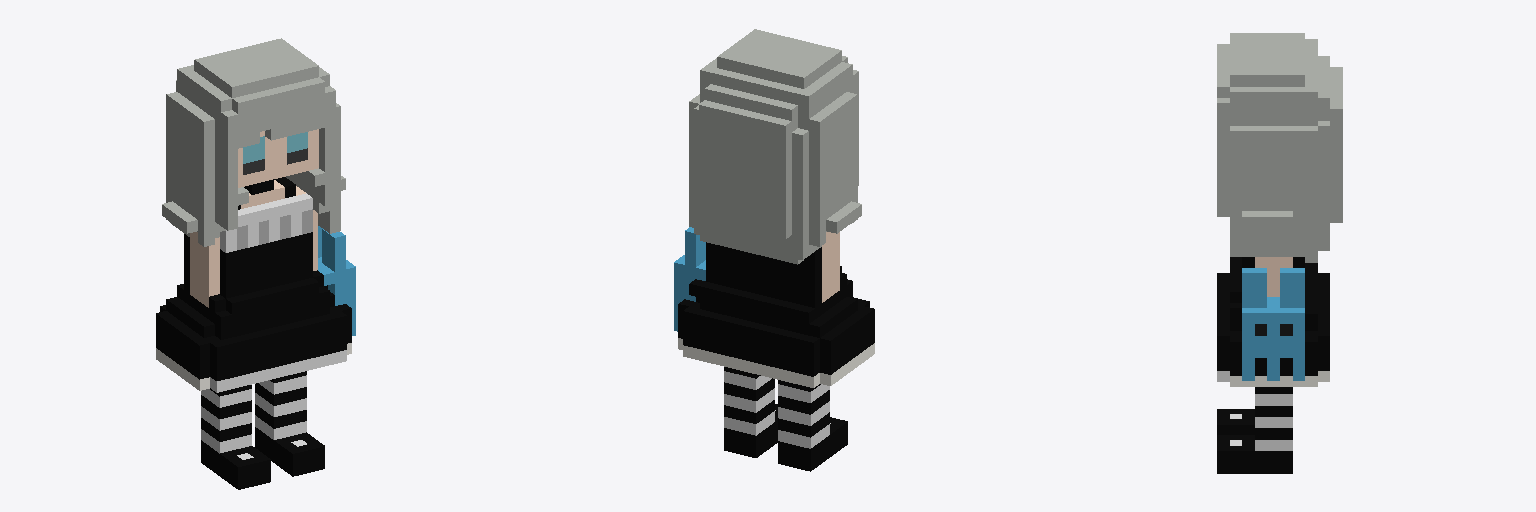
3 renders of one model, left to right at view 1: azimuth 30°, elevation 25°; view 2: azimuth 150°, elevation 25°; view 3: azimuth 270°, elevation 25°, orthographic.
Visible parts, largest first — view 1: object 1; view 2: object 1; view 3: object 1.
Boxes of the visible parts, box(x1,y1,x2,y2) form: object 1: box(156, 38, 355, 489); object 1: box(674, 29, 874, 471); object 1: box(1217, 33, 1342, 473).
Bounding box in the file's own units: 1.5 × 3.5 × 1.
Materials: 1 (1 with a texture image).